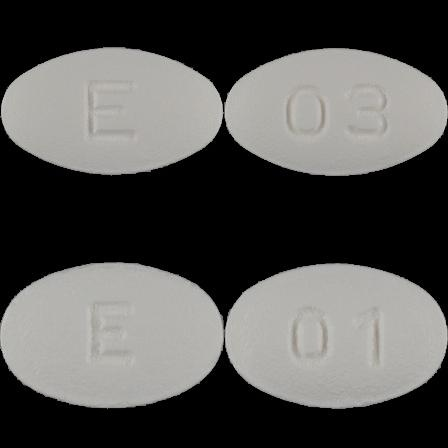43063-125: (0, 0, 224, 224)
